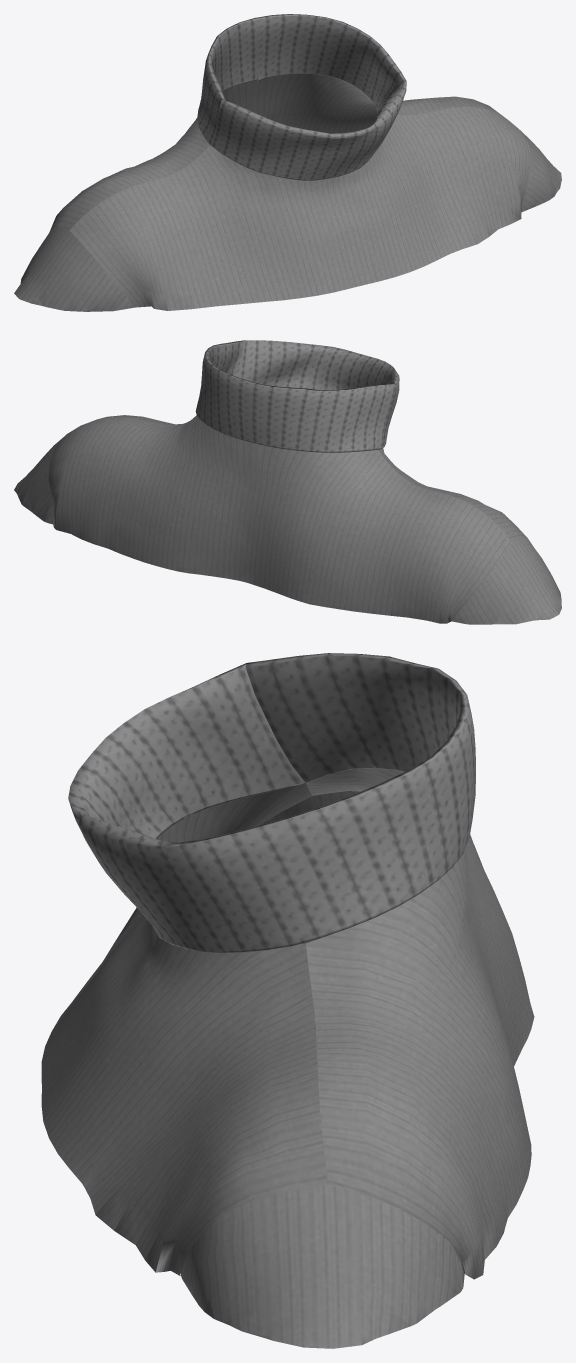
File: knitted_turtleneck_animated.glb
3 views of the same model, one above another, from view 1: azimuth 30°, elevation 25°; view 2: azimuth 150°, elevation 25°; view 3: azimuth 270°, elevation 25° (orthographic). The views are drawn at different scales.
Visible parts, largest first — view 1: Knitted_turtleneck; view 2: Knitted_turtleneck; view 3: Knitted_turtleneck.
Boxes of the visible parts, left/top/right/bottom form: Knitted_turtleneck: left=14, top=14, right=561, bottom=311; Knitted_turtleneck: left=14, top=340, right=561, bottom=624; Knitted_turtleneck: left=41, top=653, right=534, bottom=1348.
Bounding box in the file's own units: 46.92 × 15.82 × 18.64.
1 material, 1 textured.
